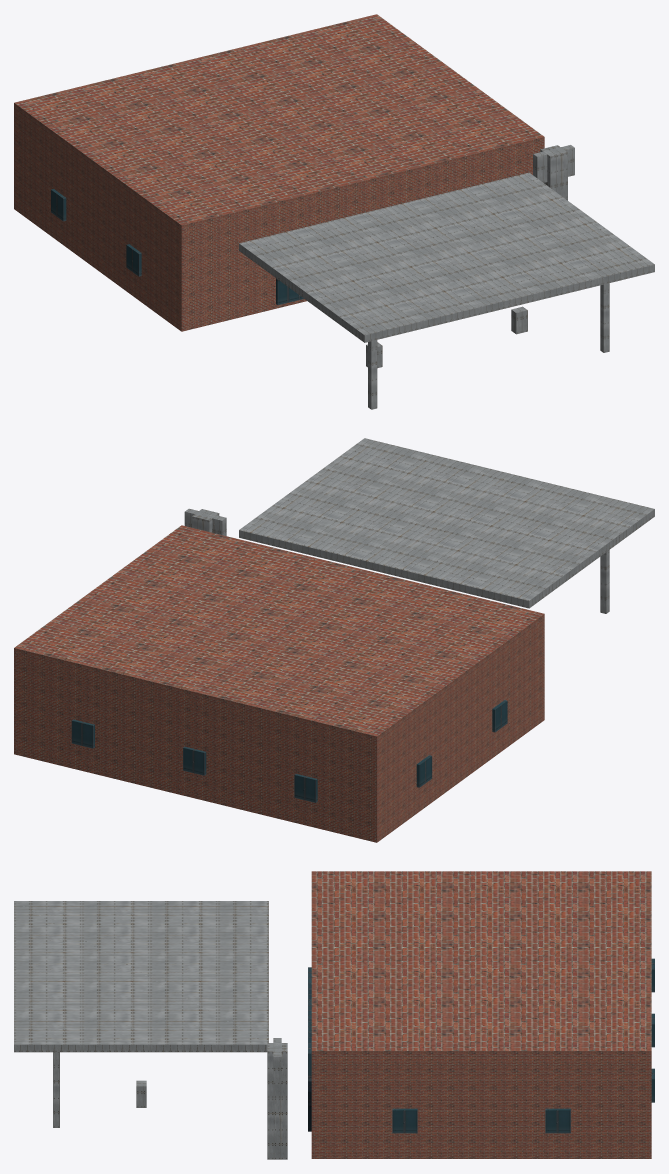
Rendered from gas-station_lod0.gltf.
3 renders of one model, top to bottom at view 1: azimuth 30°, elevation 25°; view 2: azimuth 150°, elevation 25°; view 3: azimuth 270°, elevation 25°, orthographic.
Parts seen in each view (by area): view 1: gas-station_main, gas-station__canopy, gas-station_fen_07-glass-curtain-blue_0, gas-station__pylon, gas-station__canopy_post_a, gas-station__canopy_post_b, gas-station__pylon_cabinet; view 2: gas-station_main, gas-station__canopy, gas-station_fen_07-glass-curtain-blue_0, gas-station__canopy_post_a; view 3: gas-station_main, gas-station__canopy, gas-station__pylon, gas-station_fen_07-glass-curtain-blue_0, gas-station__canopy_post_b.
Part boxes in pixels (x1=…): gas-station_main: x1=14, y1=14, x2=544, y2=331; gas-station__canopy: x1=239, y1=172, x2=654, y2=342; gas-station_fen_07-glass-curtain-blue_0: x1=51, y1=189, x2=303, y2=305; gas-station__pylon: x1=540, y1=145, x2=567, y2=200; gas-station__canopy_post_a: x1=368, y1=340, x2=377, y2=409; gas-station__canopy_post_b: x1=600, y1=283, x2=609, y2=352; gas-station__pylon_cabinet: x1=533, y1=145, x2=574, y2=182; gas-station_main: x1=14, y1=525, x2=544, y2=842; gas-station__canopy: x1=239, y1=438, x2=654, y2=608; gas-station_fen_07-glass-curtain-blue_0: x1=71, y1=700, x2=507, y2=802; gas-station__canopy_post_a: x1=600, y1=550, x2=609, y2=613; gas-station_main: x1=311, y1=871, x2=651, y2=1158; gas-station__canopy: x1=14, y1=901, x2=268, y2=1052; gas-station__pylon: x1=267, y1=1043, x2=287, y2=1159; gas-station_fen_07-glass-curtain-blue_0: x1=308, y1=958, x2=654, y2=1133; gas-station__canopy_post_b: x1=53, y1=1052, x2=59, y2=1127.
Bounding box in the file's own units: 26 × 7 × 37.7.
